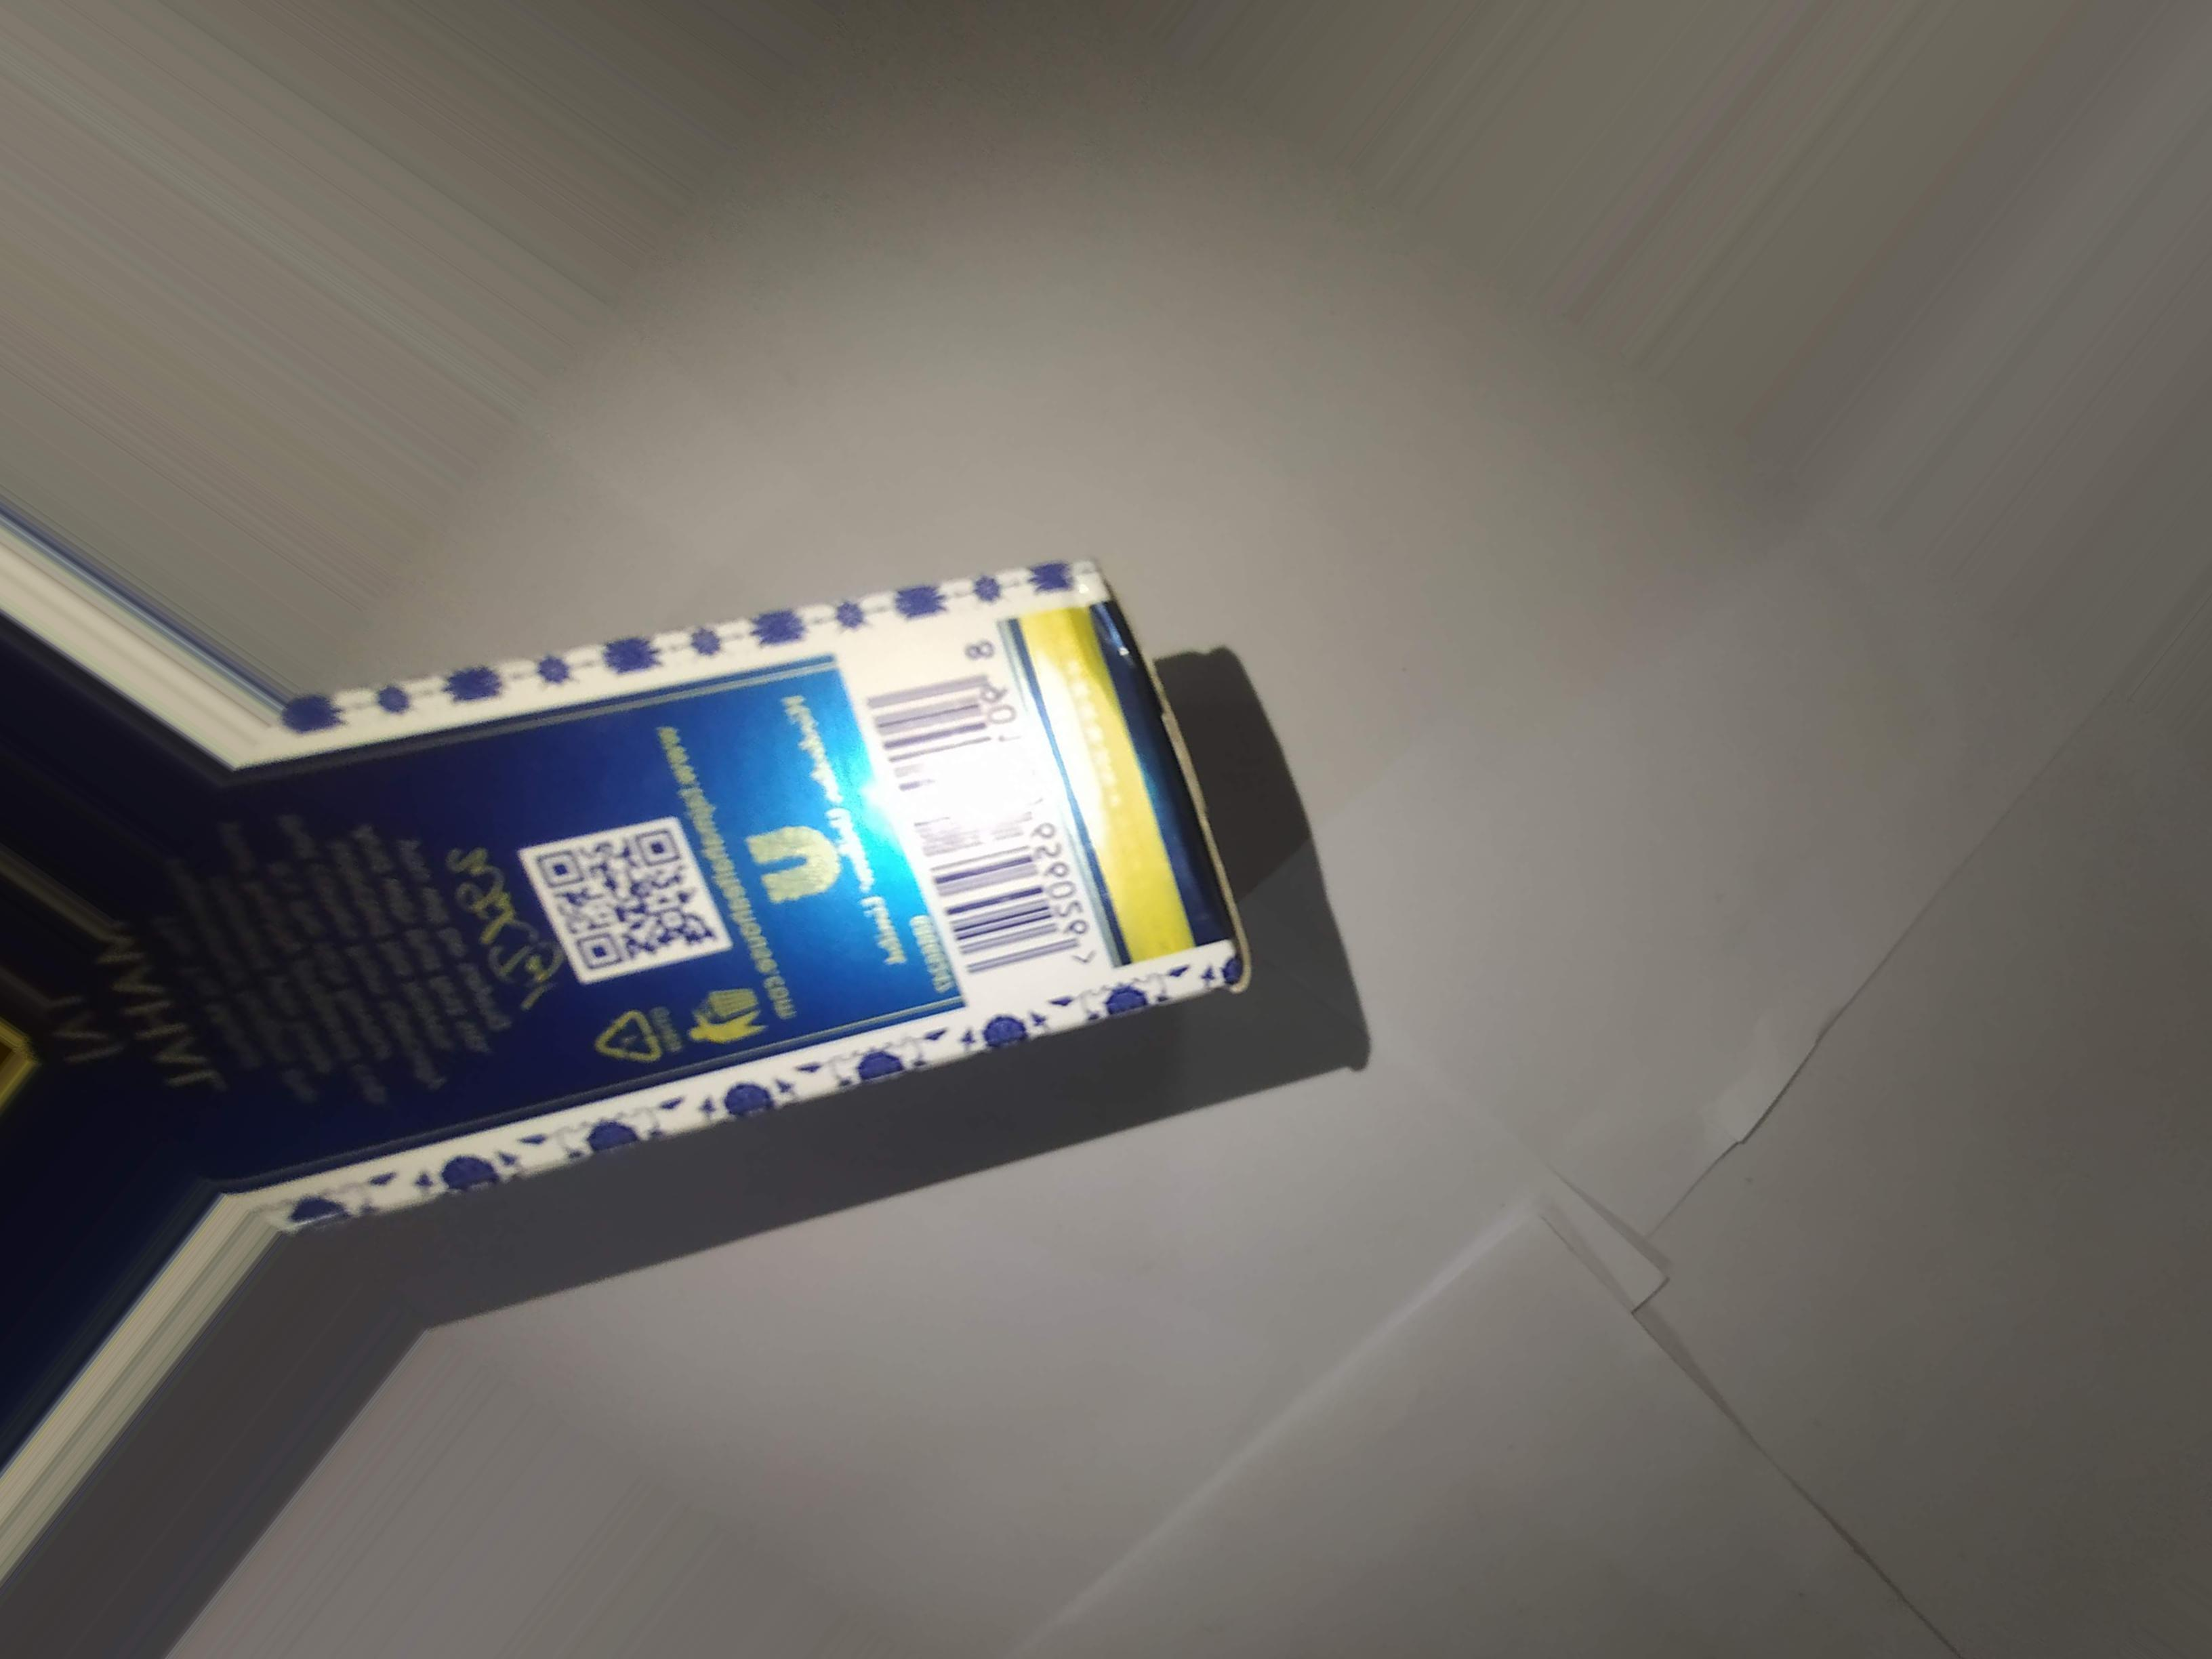Bar_code: (834, 610, 1122, 997)
QR_code: (514, 809, 745, 1006)
